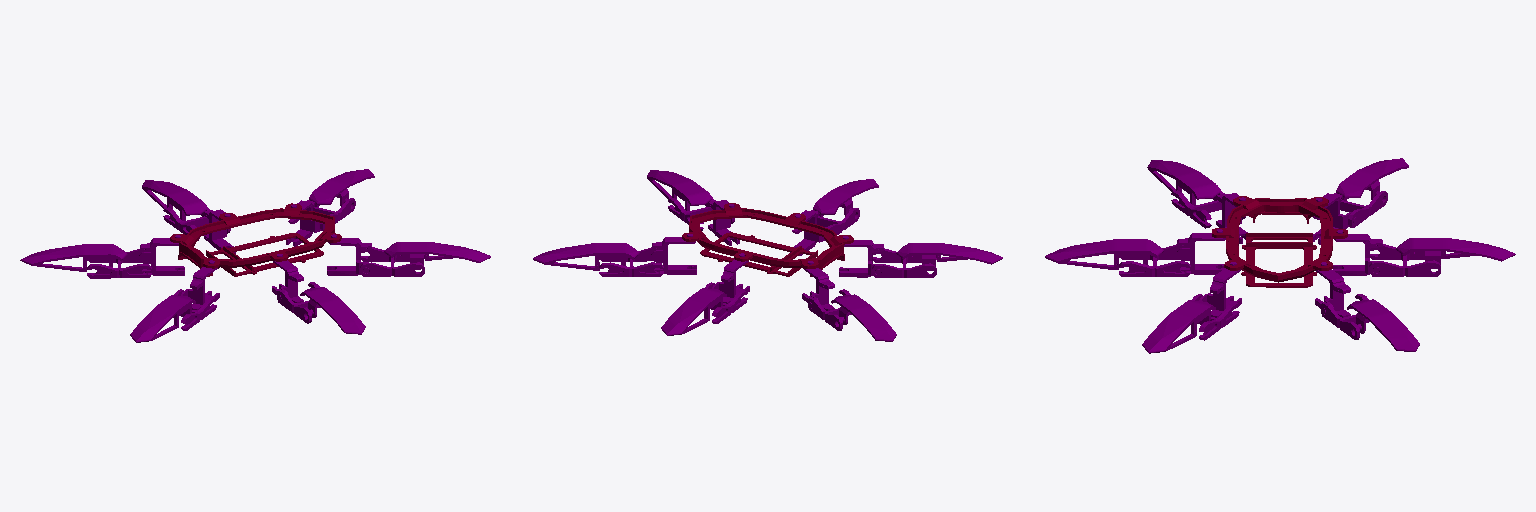
--- Facts derived from the render (not from the file) ---
Views: 3 orthographic renders of the robot side by side, from view 1: azimuth 30°, elevation 25°; view 2: azimuth 150°, elevation 25°; view 3: azimuth 270°, elevation 25°.
Model hexapod with 29 links and 28 joints (18 revolute, 10 fixed), rooted at base_footprint, posed every joint at zero.
Visible links, largest first — view 1: body_top, tibia_3, tibia_4, tibia_6, tibia_5, tibia_2, board_bracket, femur_6, tibia_1, femur_3, coxa_3, coxa_6 (+7 smaller); view 2: body_top, tibia_1, tibia_2, tibia_4, tibia_3, tibia_6, board_bracket, tibia_5, femur_4, femur_1, coxa_1, coxa_4 (+6 smaller); view 3: body_top, tibia_5, tibia_6, tibia_2, board_bracket, tibia_1, tibia_4, femur_2, tibia_3, femur_5, coxa_5, coxa_2 (+8 smaller).
Link boxes in pixels (x1=…): body_top: x1=170, y1=203, x2=341, y2=276; tibia_3: x1=20, y1=244, x2=127, y2=271; tibia_4: x1=130, y1=295, x2=195, y2=342; tibia_6: x1=384, y1=242, x2=490, y2=269; tibia_5: x1=300, y1=287, x2=365, y2=334; tibia_2: x1=142, y1=180, x2=206, y2=220; board_bracket: x1=206, y1=233, x2=323, y2=276; femur_6: x1=360, y1=247, x2=424, y2=276; tibia_1: x1=309, y1=169, x2=374, y2=206; femur_3: x1=87, y1=249, x2=151, y2=278; coxa_3: x1=139, y1=235, x2=184, y2=275; coxa_6: x1=327, y1=234, x2=371, y2=275; body_top: x1=682, y1=203, x2=853, y2=276; tibia_1: x1=533, y1=243, x2=639, y2=270; tibia_2: x1=661, y1=288, x2=726, y2=335; tibia_4: x1=896, y1=243, x2=1002, y2=270; tibia_3: x1=831, y1=294, x2=896, y2=341; tibia_6: x1=647, y1=170, x2=711, y2=210; board_bracket: x1=700, y1=232, x2=817, y2=276; tibia_5: x1=813, y1=179, x2=878, y2=216; femur_4: x1=872, y1=248, x2=936, y2=277; femur_1: x1=599, y1=247, x2=663, y2=276; coxa_1: x1=651, y1=234, x2=696, y2=274; coxa_4: x1=839, y1=236, x2=883, y2=277; body_top: x1=1212, y1=196, x2=1347, y2=282; tibia_5: x1=1045, y1=239, x2=1163, y2=269; tibia_6: x1=1142, y1=300, x2=1215, y2=353; tibia_2: x1=1396, y1=238, x2=1515, y2=268; board_bracket: x1=1241, y1=233, x2=1316, y2=287; tibia_1: x1=1347, y1=299, x2=1419, y2=351; tibia_4: x1=1147, y1=160, x2=1219, y2=205; femur_2: x1=1369, y1=244, x2=1440, y2=276; tibia_3: x1=1336, y1=158, x2=1408, y2=200; femur_5: x1=1119, y1=244, x2=1190, y2=276; coxa_5: x1=1177, y1=229, x2=1225, y2=274; coxa_2: x1=1333, y1=230, x2=1382, y2=275.
Size in the robot's own frame: 4.4 by 4.52 by 0.4426 metres.
20 mesh visuals loaded from 7 distinct referenced files (5 binary STL); not drawn: 2 (reference not matched to a file when rendering).

The robot description file, URDF, robot "hexapod":
<?xml version="1.0" ?>
<!-- =================================================================================== -->
<!-- |    This document was autogenerated by xacro from hexapod.urdf.xacro             | -->
<!-- |    EDITING THIS FILE BY HAND IS NOT RECOMMENDED                                 | -->
<!-- =================================================================================== -->
<robot name="hexapod">
  <!-- Leg Parameters -->
  <material name="coxa">
    <color rgba="0.5 0 0.5 1"/>
  </material>
  <material name="femur">
    <color rgba="0.5 0 0.5 1"/>
  </material>
  <material name="tibia">
    <color rgba="0.5 0 0.5 1"/>
  </material>
  <material name="body_top">
    <color rgba="0.5 0 0.2 0.5"/>
  </material>
  <material name="body_bottom">
    <color rgba="0.5 0 0.2 0.5"/>
  </material>
  <material name="cover_top">
    <color rgba="0 0.2 0 0.5"/>
  </material>
  <material name="board_bracket">
    <color rgba="0.5 0 0.2 0.5"/>
  </material>
  <!-- Leg Parameters -->
  <link name="cover_top">
    <visual>
      <geometry>
        <mesh filename="package://hex_description/models/hexapod/meshes/cover_top.stl" scale="0.01 0.01 0.01"/>
      </geometry>
      <origin xyz="-0.02 -0 0"/>
      <material name="cover_top"/>
    </visual>
    <inertial>
      <mass value="0.1"/>
      <inertia ixx="0.008416666666666668" ixy="0" ixz="0" iyy="0.029666666666666675" iyz="0" izz="0.02141666666666667"/>
    </inertial>
    <collision>
      <geometry>
        <mesh filename="package://hex_description/models/hexapod/meshes/cover_top.stl" scale="0.01 0.01 0.01"/>
        <origin xyz="-0.02 -0 0"/>
      </geometry>
    </collision>
  </link>
  <joint name="body_top_cover_top_joint" type="fixed">
    <parent link="body_top"/>
    <child link="cover_top"/>
    <origin rpy="0.0 0.0 -0.05" xyz="0.0 -0.115 0.31"/>
  </joint>
  <link name="body_top">
    <visual>
      <geometry>
        <mesh filename="package://hex_description/models/hexapod/meshes/body_top.stl" scale="0.01 0.01 0.01"/>
      </geometry>
      <origin xyz="0 -0.42 0"/>
      <material name="body_top"/>
    </visual>
    <inertial>
      <mass value="0.7"/>
      <inertia ixx="0.058916666666666666" ixy="0" ixz="0" iyy="0.20766666666666667" iyz="0" izz="0.14991666666666667"/>
    </inertial>
    <collision>
      <geometry>
        <mesh filename="package://hex_description/models/hexapod/meshes/body_top.stl" scale="0.01 0.01 0.01"/>
        <origin xyz="0 -0.42 0"/>
      </geometry>
    </collision>
  </link>
  <joint name="body_top_body_bottom_joint" type="fixed">
    <parent link="body_bottom"/>
    <child link="body_top"/>
    <origin rpy="0.0 0.0 0.0" xyz="0.0 0.02 0"/>
  </joint>
  <link name="board_bracket">
    <visual>
      <geometry>
        <mesh filename="package://hex_description/models/hexapod/meshes/board_bracket.stl" scale="0.01 0.01 0.01"/>
      </geometry>
      <origin xyz="0 0 0"/>
      <material name="board_bracket"/>
    </visual>
    <inertial>
      <mass value="0.7"/>
      <inertia ixx="0.021209999999999996" ixy="0" ixz="0" iyy="0.09158333333333335" iyz="0" izz="0.07079333333333335"/>
    </inertial>
    <collision>
      <geometry>
        <mesh filename="package://hex_description/models/hexapod/meshes/board_bracket.stl" scale="0.01 0.01 0.01"/>
        <origin xyz="0 0 0"/>
      </geometry>
    </collision>
  </link>
  <joint name="base_bottom_bracket_board" type="fixed">
    <parent link="body_bottom"/>
    <child link="board_bracket"/>
    <origin rpy="0.0 0.0 0.0" xyz="0 -0.03 0"/>
  </joint>
  <link name="body_bottom">
    <visual>
      <geometry>
        <mesh filename="package://hex_description/models/hexapod/meshes/body_bottom.stl" scale="0.01 0.01 0.01"/>
      </geometry>
      <origin xyz="0.0 -0.425 0"/>
      <material name="body_bottom"/>
    </visual>
    <inertial>
      <mass value="0.6"/>
      <inertia ixx="0.050499999999999996" ixy="0" ixz="0" iyy="0.17800000000000002" iyz="0" izz="0.1285"/>
    </inertial>
    <collision>
      <geometry>
        <mesh filename="package://hex_description/models/hexapod/meshes/body_bottom.stl" scale="0.01 0.01 0.01"/>
        <origin xyz="0.0 -0.425 0"/>
      </geometry>
    </collision>
  </link>
  <link name="base_footprint"/>
  <joint name="base_footprint_base_bottom_joint" type="fixed">
    <parent link="base_footprint"/>
    <child link="body_bottom"/>
    <origin rpy="0.0 0.0 0.0" xyz="0.0 0.0 0.0"/>
  </joint>
  <gazebo>
    <plugin filename="libgazebo_ros_control.so" name="gazebo_ros_control">
      <robotNamespace>/hexapod</robotNamespace>
      <parameters>[local-path]/Hexapod/src/hex/hex_control/config/control.yaml</parameters>
    </plugin>
  </gazebo>
  <!-- Pose publisher -->
  <gazebo>
    <plugin filename="libgazebo_ros_p3d.so" name="p3d_base_controller">
      <alwaysOn>true</alwaysOn>
      <!--<updateRate>50.0</updateRate>-->
      <bodyName>cover_top</bodyName>
      <topicName>odom</topicName>
      <gaussianNoise>0.01</gaussianNoise>
      <frameName>world</frameName>
      <xyzOffsets>0 0 0</xyzOffsets>
      <rpyOffsets>0 0 0</rpyOffsets>
    </plugin>
  </gazebo>
  <!-- IMU -->
  <gazebo>
    <plugin filename="libgazebo_ros_imu.so" name="imu_controller">
      <alwaysOn>true</alwaysOn>
      <!-- <updateRate>50.0</updateRate> -->
      <bodyName>cover_top</bodyName>
      <topicName>imu</topicName>
      <gaussianNoise>0.0</gaussianNoise>
      <frameName>world</frameName>
    </plugin>
  </gazebo>
  <!-- <gazebo reference="cover_top">
    <gravity>true</gravity>
    <sensor name="imu_sensor" type="imu">
      <always_on>true</always_on>
      <update_rate>50</update_rate>
      <visualize>false</visualize>
      <topic>__default_topic__</topic>
      <plugin filename="libgazebo_ros_imu_sensor.so" name="imu_plugin">
        <topicName>imu</topicName>
        <bodyName>cover_top</bodyName>
        <updateRateHZ>10.0</updateRateHZ>
        <gaussianNoise>0.0</gaussianNoise>
        <xyzOffset>0 0 0</xyzOffset>
        <rpyOffset>0 0 0</rpyOffset>
        <frameName>cover_top</frameName>
        <initialOrientationAsReference>false</initialOrientationAsReference>
      </plugin>
      <pose>0 0 0 0 0 0</pose>
    </sensor>
  </gazebo> -->
  <gazebo reference="tibia_1">
    <!-- contact sensor -->
    <sensor name="tibia_1_contact_sens" type="contact">
      <update_rate>50.0</update_rate>
      <always_on>1</always_on>
      <contact>
        <collision>tibia_1_collision</collision>
      </contact>
      <plugin filename="libgazebo_ros_bumper.so" name="gazebo_ros_bumper_controller">
        <alwaysOn>true</alwaysOn>
        <updateRate>50.0</updateRate>
        <bumperTopicName>/contact_1</bumperTopicName>
        <frameName>world</frameName>
      </plugin>
    </sensor>
  </gazebo>
  <gazebo reference="tibia_2">
    <!-- contact sensor -->
    <sensor name="tibia_2_contact_sens" type="contact">
      <update_rate>50.0</update_rate>
      <always_on>1</always_on>
      <contact>
        <collision>tibia_2_collision</collision>
      </contact>
      <plugin filename="libgazebo_ros_bumper.so" name="gazebo_ros_bumper_controller">
        <alwaysOn>true</alwaysOn>
        <updateRate>50.0</updateRate>
        <bumperTopicName>/contact_2</bumperTopicName>
        <frameName>world</frameName>
      </plugin>
    </sensor>
  </gazebo>
  <gazebo reference="tibia_3">
    <!-- contact sensor -->
    <sensor name="tibia_3_contact_sens" type="contact">
      <update_rate>50.0</update_rate>
      <always_on>1</always_on>
      <contact>
        <collision>tibia_3_collision</collision>
      </contact>
      <plugin filename="libgazebo_ros_bumper.so" name="gazebo_ros_bumper_controller">
        <alwaysOn>true</alwaysOn>
        <updateRate>50.0</updateRate>
        <bumperTopicName>/contact_3</bumperTopicName>
        <frameName>world</frameName>
      </plugin>
    </sensor>
  </gazebo>
  <gazebo reference="tibia_4">
    <!-- contact sensor -->
    <sensor name="tibia_4_contact_sens" type="contact">
      <update_rate>50.0</update_rate>
      <always_on>1</always_on>
      <contact>
        <collision>tibia_4_collision</collision>
      </contact>
      <plugin filename="libgazebo_ros_bumper.so" name="gazebo_ros_bumper_controller">
        <alwaysOn>true</alwaysOn>
        <updateRate>50.0</updateRate>
        <bumperTopicName>/contact_4</bumperTopicName>
        <frameName>world</frameName>
      </plugin>
    </sensor>
  </gazebo>
  <gazebo reference="tibia_5">
    <!-- contact sensor -->
    <sensor name="tibia_5_contact_sens" type="contact">
      <update_rate>50.0</update_rate>
      <always_on>1</always_on>
      <contact>
        <collision>tibia_5_collision</collision>
      </contact>
      <plugin filename="libgazebo_ros_bumper.so" name="gazebo_ros_bumper_controller">
        <alwaysOn>true</alwaysOn>
        <updateRate>50.0</updateRate>
        <bumperTopicName>/contact_5</bumperTopicName>
        <frameName>world</frameName>
      </plugin>
    </sensor>
  </gazebo>
  <gazebo reference="tibia_6">
    <!-- contact sensor -->
    <sensor name="tibia_6_contact_sens" type="contact">
      <update_rate>50.0</update_rate>
      <always_on>1</always_on>
      <contact>
        <collision>tibia_6_collision</collision>
      </contact>
      <plugin filename="libgazebo_ros_bumper.so" name="gazebo_ros_bumper_controller">
        <alwaysOn>true</alwaysOn>
        <updateRate>50.0</updateRate>
        <bumperTopicName>/contact_6</bumperTopicName>
        <frameName>world</frameName>
      </plugin>
    </sensor>
  </gazebo>
  <link name="coxa_1">
    <visual>
      <geometry>
        <mesh filename="package://hex_description/models/hexapod/meshes/coxa.stl" scale="0.01 0.01 0.01"/>
      </geometry>
      <origin rpy="0 0 3.14" xyz="0 0 0"/>
      <material name="coxa"/>
    </visual>
    <inertial>
      <mass value="0.6"/>
      <inertia ixx="0.07725" ixy="0" ixz="0" iyy="0.07725" iyz="0" izz="0.075"/>
      <origin rpy="0 0 3.14" xyz="0 0 0"/>
    </inertial>
    <collision>
      <geometry>
        <mesh filename="package://hex_description/models/hexapod/meshes/coxa.stl" scale="0.01 0.01 0.01"/>
      </geometry>
      <origin rpy="0 0 3.14" xyz="0 0 0"/>
    </collision>
  </link>
  <link name="femur_1">
    <visual>
      <geometry>
        <mesh filename="package://hex_description/models/hexapod/meshes/femur.stl" scale="0.01 0.01 0.01"/>
      </geometry>
      <origin rpy="1.57 1.57 3.14" xyz="0 0 0"/>
      <material name="femur"/>
    </visual>
    <inertial>
      <mass value="0.6"/>
      <inertia ixx="0.084" ixy="0" ixz="0" iyy="0.084" iyz="0" izz="0.075"/>
      <origin rpy="1.57 1.57 1.57" xyz="0 0 0"/>
    </inertial>
    <collision>
      <geometry>
        <mesh filename="package://hex_description/models/hexapod/meshes/femur.stl" scale="0.01 0.01 0.01"/>
      </geometry>
      <origin rpy="1.57 1.57 3.14" xyz="0 0 0"/>
    </collision>
  </link>
  <link name="tibia_1">
    <visual>
      <geometry>
        <mesh filename="package://hex_description/models/hexapod/meshes/tibia.stl" scale="0.01 0.01 0.01"/>
      </geometry>
      <origin rpy="0 1.57 1.57" xyz="0 0 0"/>
      <material name="tibia"/>
    </visual>
    <inertial>
      <origin rpy="0 1.57 0" xyz="0 0 0"/>
      <mass value="0.6"/>
      <inertia ixx="0.15924999999999997" ixy="0" ixz="0" iyy="0.15924999999999997" iyz="0" izz="0.027"/>
    </inertial>
    <collision>
      <geometry>
        <mesh filename="package://hex_description/models/hexapod/meshes/tibia.stl" scale="0.01 0.01 0.01"/>
      </geometry>
      <origin rpy="0 1.57 1.57" xyz="0 0 0"/>
    </collision>
  </link>
  <link name="end_point_1"/>
  <joint name="base_coxa_joint_1" type="revolute">
    <parent link="body_bottom"/>
    <child link="coxa_1"/>
    <origin rpy="0 0 -1.0472" xyz="0.7 0.435 0.05"/>
    <limit effort="50.0" lower="-0.707" upper="0.707" velocity="1.0"/>
    <axis xyz="0 0 1"/>
    <dynamics damping="60.0" friction="4.0"/>
  </joint>
  <joint name="coxa_femur_joint_1" type="revolute">
    <parent link="coxa_1"/>
    <child link="femur_1"/>
    <origin rpy="-1.57 3.14 -1.57" xyz="-0.09 0.345 -0.04"/>
    <limit effort="50.0" lower="-0.707" upper="0.707" velocity="1.0"/>
    <axis xyz="0 0 1"/>
    <dynamics damping="60.0" friction="4.0"/>
  </joint>
  <joint name="femur_tibia_joint_1" type="revolute">
    <parent link="femur_1"/>
    <child link="tibia_1"/>
    <origin rpy="0 0.0 0.0" xyz="0.555 0.035 0.0"/>
    <limit effort="50.0" lower="-2.3" upper="0" velocity="1.0"/>
    <axis xyz="0 0 1"/>
    <dynamics damping="0.7" friction="0.1"/>
  </joint>
  <joint name="end_point_joint_1" type="fixed">
    <parent link="tibia_1"/>
    <child link="end_point_1"/>
    <origin rpy="0 0.0 0.0" xyz="0.755 0 0.0"/>
  </joint>
  <transmission name="tran1_1">
    <type>transmission_interface/SimpleTransmission</type>
    <joint name="base_coxa_joint_1">
      <hardwareInterface>hardware_interface/EffortJointInterface</hardwareInterface>
    </joint>
    <actuator name="motor1">
      <hardwareInterface>hardware_interface/EffortJointInterface</hardwareInterface>
      <mechanicalReduction>1</mechanicalReduction>
    </actuator>
  </transmission>
  <transmission name="tran2_1">
    <type>transmission_interface/SimpleTransmission</type>
    <joint name="coxa_femur_joint_1">
      <hardwareInterface>hardware_interface/EffortJointInterface</hardwareInterface>
    </joint>
    <actuator name="motor2">
      <hardwareInterface>hardware_interface/EffortJointInterface</hardwareInterface>
      <mechanicalReduction>1</mechanicalReduction>
    </actuator>
  </transmission>
  <transmission name="tran3_1">
    <type>transmission_interface/SimpleTransmission</type>
    <joint name="femur_tibia_joint_1">
      <hardwareInterface>hardware_interface/EffortJointInterface</hardwareInterface>
    </joint>
    <actuator name="motor3">
      <hardwareInterface>hardware_interface/EffortJointInterface</hardwareInterface>
      <mechanicalReduction>1</mechanicalReduction>
    </actuator>
  </transmission>
  <gazebo reference="coxa_1">
    <mu1>0.5</mu1>
    <mu2>0.5</mu2>
    <kp>50000.0</kp>
    <kd>1.0</kd>
    <minDepth>0.001</minDepth>
    <maxVel>0.1</maxVel>
    <!-- <fdir1>1 0 0</fdir1> -->
    <material>Gazebo/Green</material>
  </gazebo>
  <gazebo reference="femur_1">
    <mu1>0.5</mu1>
    <mu2>0.5</mu2>
    <kp>50000.0</kp>
    <kd>1.0</kd>
    <minDepth>0.001</minDepth>
    <maxVel>0.1</maxVel>
    <!-- <fdir1>1 0 0</fdir1> -->
    <material>Gazebo/Orange</material>
  </gazebo>
  <gazebo reference="tibia_1">
    <mu1>0.5</mu1>
    <mu2>0.5</mu2>
    <kp>50000.0</kp>
    <kd>1.0</kd>
    <minDepth>0.001</minDepth>
    <maxVel>0.1</maxVel>
    <!-- <fdir1>1 0 0</fdir1> -->
    <material>Gazebo/Blue</material>
  </gazebo>
  <link name="coxa_2">
    <visual>
      <geometry>
        <mesh filename="package://hex_description/models/hexapod/meshes/coxa.stl" scale="0.01 0.01 0.01"/>
      </geometry>
      <origin rpy="0 0 3.14" xyz="0 0 0"/>
      <material name="coxa"/>
    </visual>
    <inertial>
      <mass value="0.6"/>
      <inertia ixx="0.07725" ixy="0" ixz="0" iyy="0.07725" iyz="0" izz="0.075"/>
      <origin rpy="0 0 3.14" xyz="0 0 0"/>
    </inertial>
    <collision>
      <geometry>
        <mesh filename="package://hex_description/models/hexapod/meshes/coxa.stl" scale="0.01 0.01 0.01"/>
      </geometry>
      <origin rpy="0 0 3.14" xyz="0 0 0"/>
    </collision>
  </link>
  <link name="femur_2">
    <visual>
      <geometry>
        <mesh filename="package://hex_description/models/hexapod/meshes/femur.stl" scale="0.01 0.01 0.01"/>
      </geometry>
      <origin rpy="1.57 1.57 3.14" xyz="0 0 0"/>
      <material name="femur"/>
    </visual>
    <inertial>
      <mass value="0.6"/>
      <inertia ixx="0.084" ixy="0" ixz="0" iyy="0.084" iyz="0" izz="0.075"/>
      <origin rpy="1.57 1.57 1.57" xyz="0 0 0"/>
    </inertial>
    <collision>
      <geometry>
        <mesh filename="package://hex_description/models/hexapod/meshes/femur.stl" scale="0.01 0.01 0.01"/>
      </geometry>
      <origin rpy="1.57 1.57 3.14" xyz="0 0 0"/>
    </collision>
  </link>
  <link name="tibia_2">
    <visual>
      <geometry>
        <mesh filename="package://hex_description/models/hexapod/meshes/tibia.stl" scale="0.01 0.01 0.01"/>
      </geometry>
      <origin rpy="0 1.57 1.57" xyz="0 0 0"/>
      <material name="tibia"/>
    </visual>
    <inertial>
      <origin rpy="0 1.57 0" xyz="0 0 0"/>
      <mass value="0.6"/>
      <inertia ixx="0.15924999999999997" ixy="0" ixz="0" iyy="0.15924999999999997" iyz="0" izz="0.027"/>
    </inertial>
    <collision>
      <geometry>
        <mesh filename="package://hex_description/models/hexapod/meshes/tibia.stl" scale="0.01 0.01 0.01"/>
      </geometry>
      <origin rpy="0 1.57 1.57" xyz="0 0 0"/>
    </collision>
  </link>
  <link name="end_point_2"/>
  <joint name="base_coxa_joint_2" type="revolute">
    <parent link="body_bottom"/>
    <child link="coxa_2"/>
    <origin rpy="0 0 0" xyz="-0.03 0.59 0.05"/>
    <limit effort="50.0" lower="-0.707" upper="0.707" velocity="1.0"/>
    <axis xyz="0 0 1"/>
    <dynamics damping="60.0" friction="4.0"/>
  </joint>
  <joint name="coxa_femur_joint_2" type="revolute">
    <parent link="coxa_2"/>
    <child link="femur_2"/>
    <origin rpy="-1.57 3.14 -1.57" xyz="-0.09 0.345 -0.04"/>
    <limit effort="50.0" lower="-0.707" upper="0.707" velocity="1.0"/>
    <axis xyz="0 0 1"/>
    <dynamics damping="60.0" friction="4.0"/>
  </joint>
  <joint name="femur_tibia_joint_2" type="revolute">
    <parent link="femur_2"/>
    <child link="tibia_2"/>
    <origin rpy="0 0.0 0.0" xyz="0.555 0.035 0.0"/>
    <limit effort="50.0" lower="-2.3" upper="0" velocity="1.0"/>
    <axis xyz="0 0 1"/>
    <dynamics damping="0.7" friction="0.1"/>
  </joint>
  <joint name="end_point_joint_2" type="fixed">
    <parent link="tibia_2"/>
    <child link="end_point_2"/>
    <origin rpy="0 0.0 0.0" xyz="0.755 0 0.0"/>
  </joint>
  <transmission name="tran1_2">
    <type>transmission_interface/SimpleTransmission</type>
    <joint name="base_coxa_joint_2">
      <hardwareInterface>hardware_interface/EffortJointInterface</hardwareInterface>
    </joint>
    <actuator name="motor1">
      <hardwareInterface>hardware_interface/EffortJointInterface</hardwareInterface>
      <mechanicalReduction>1</mechanicalReduction>
    </actuator>
  </transmission>
  <transmission name="tran2_2">
    <type>transmission_interface/SimpleTransmission</type>
    <joint name="coxa_femur_joint_2">
      <hardwareInterface>hardware_interface/EffortJointInterface</hardwareInterface>
    </joint>
    <actuator name="motor2">
      <hardwareInterface>hardware_interface/EffortJointInterface</hardwareInterface>
      <mechanicalReduction>1</mechanicalReduction>
    </actuator>
  </transmission>
  <transmission name="tran3_2">
    <type>transmission_interface/SimpleTransmission</type>
    <joint name="femur_tibia_joint_2">
      <hardwareInterface>hardware_interface/EffortJointInterface</hardwareInterface>
    </joint>
    <actuator name="motor3">
      <hardwareInterface>hardware_interface/EffortJointInterface</hardwareInterface>
      <mechanicalReduction>1</mechanicalReduction>
    </actuator>
  </transmission>
  <gazebo reference="coxa_2">
    <mu1>0.5</mu1>
    <mu2>0.5</mu2>
    <kp>50000.0</kp>
    <kd>1.0</kd>
    <minDepth>0.001</minDepth>
    <maxVel>0.1</maxVel>
    <!-- <fdir1>1 0 0</fdir1> -->
    <material>Gazebo/Green</material>
  </gazebo>
  <gazebo reference="femur_2">
    <mu1>0.5</mu1>
    <mu2>0.5</mu2>
    <kp>50000.0</kp>
    <kd>1.0</kd>
    <minDepth>0.001</minDepth>
    <maxVel>0.1</maxVel>
    <!-- <fdir1>1 0 0</fdir1> -->
    <material>Gazebo/Orange</material>
  </gazebo>
  <gazebo reference="tibia_2">
    <mu1>0.5</mu1>
    <mu2>0.5</mu2>
    <kp>50000.0</kp>
    <kd>1.0</kd>
    <minDepth>0.001</minDepth>
    <maxVel>0.1</maxVel>
    <!-- <fdir1>1 0 0</fdir1> -->
    <material>Gazebo/Blue</material>
  </gazebo>
  <link name="coxa_3">
    <visual>
      <geometry>
        <mesh filename="package://hex_description/models/hexapod/meshes/coxa.stl" scale="0.01 0.01 0.01"/>
      </geometry>
      <origin rpy="0 0 3.14" xyz="0 0 0"/>
      <material name="coxa"/>
    </visual>
    <inertial>
      <mass value="0.6"/>
      <inertia ixx="0.07725" ixy="0" ixz="0" iyy="0.07725" iyz="0" izz="0.075"/>
      <origin rpy="0 0 3.14" xyz="0 0 0"/>
    </inertial>
    <collision>
      <geometry>
        <mesh filename="package://hex_description/models/hexapod/meshes/coxa.stl" scale="0.01 0.01 0.01"/>
      </geometry>
      <origin rpy="0 0 3.14" xyz="0 0 0"/>
    </collision>
  </link>
  <link name="femur_3">
    <visual>
      <geometry>
        <mesh filename="package://hex_description/models/hexapod/meshes/femur.stl" scale="0.01 0.01 0.01"/>
      </geometry>
      <origin rpy="1.57 1.57 3.14" xyz="0 0 0"/>
      <material name="femur"/>
    </visual>
    <inertial>
      <mass value="0.6"/>
      <inertia ixx="0.084" ixy="0" ixz="0" iyy="0.084" iyz="0" izz="0.075"/>
      <origin rpy="1.57 1.57 1.57" xyz="0 0 0"/>
    </inertial>
    <collision>
      <geometry>
        <mesh filename="package://hex_description/models/hexapod/meshes/femur.stl" scale="0.01 0.01 0.01"/>
      </geometry>
      <origin rpy="1.57 1.57 3.14" xyz="0 0 0"/>
    </collision>
  </link>
  <link name="tibia_3">
    <visual>
      <geometry>
        <mesh filename="package://hex_description/models/hexapod/meshes/tibia.stl" scale="0.01 0.01 0.01"/>
      </geometry>
      <origin rpy="0 1.57 1.57" xyz="0 0 0"/>
      <material name="tibia"/>
    </visual>
    <inertial>
      <origin rpy="0 1.57 0" xyz="0 0 0"/>
      <mass value="0.6"/>
      <inertia ixx="0.15924999999999997" ixy="0" ixz="0" iyy="0.15924999999999997" iyz="0" izz="0.027"/>
    </inertial>
    <collision>
      <geometry>
        <mesh filename="package://hex_description/models/hexapod/meshes/tibia.stl" scale="0.01 0.01 0.01"/>
      </geometry>
      <origin rpy="0 1.57 1.57" xyz="0 0 0"/>
    </collision>
  </link>
  <link name="end_point_3"/>
  <joint name="base_coxa_joint_3" type="revolute">
    <parent link="body_bottom"/>
    <child link="coxa_3"/>
    <origin rpy="0 0 1.0472" xyz="-0.76 0.39 0.05"/>
    <limit effort="50.0" lower="-0.707" upper="0.707" velocity="1.0"/>
    <axis xyz="0 0 1"/>
    <dynamics damping="60.0" friction="4.0"/>
  </joint>
  <joint name="coxa_femur_joint_3" type="revolute">
    <parent link="coxa_3"/>
    <child link="femur_3"/>
    <origin rpy="-1.57 3.14 -1.57" xyz="-0.09 0.345 -0.04"/>
    <limit effort="50.0" lower="-0.707" upper="0.707" velocity="1.0"/>
    <axis xyz="0 0 1"/>
    <dynamics damping="60.0" friction="4.0"/>
  </joint>
  <joint name="femur_tibia_joint_3" type="revolute">
    <parent link="femur_3"/>
    <child link="tibia_3"/>
    <origin rpy="0 0.0 0.0" xyz="0.555 0.035 0.0"/>
    <limit effort="50.0" lower="-2.3" upper="0" velocity="1.0"/>
    <axis xyz="0 0 1"/>
    <dynamics damping="0.7" friction="0.1"/>
  </joint>
  <joint name="end_point_joint_3" type="fixed">
    <parent link="tibia_3"/>
    <child link="end_point_3"/>
    <origin rpy="0 0.0 0.0" xyz="0.755 0 0.0"/>
  </joint>
  <transmission name="tran1_3">
    <type>transmission_interface/SimpleTransmission</type>
    <joint name="base_coxa_joint_3">
      <hardwareInterface>hardware_interface/EffortJointInterface</hardwareInterface>
    </joint>
    <actuator name="motor1">
      <hardwareInterface>hardware_interface/EffortJointInterface</hardwareInterface>
      <mechanicalReduction>1</mechanicalReduction>
    </actuator>
  </transmission>
  <transmission name="tran2_3">
    <type>transmission_interface/SimpleTransmission</type>
    <joint name="coxa_femur_joint_3">
      <hardwareInterface>hardware_interface/EffortJointInterface</hardwareInterface>
    </joint>
    <actuator name="motor2">
      <hardwareInterface>hardware_interface/EffortJointInterface</hardwareInterface>
      <mechanicalReduction>1</mechanicalReduction>
    </actuator>
  </transmission>
  <transmission name="tran3_3">
    <type>transmission_interface/SimpleTransmission</type>
    <joint name="femur_tibia_joint_3">
      <hardwareInterface>hardware_interface/EffortJointInterface</hardwareInterface>
    </joint>
    <actuator name="motor3">
      <hardwareInterface>hardware_interface/EffortJointInterface</hardwareInterface>
      <mechanicalReduction>1</mechanicalReduction>
    </actuator>
  </transmission>
  <gazebo reference="coxa_3">
    <mu1>0.5</mu1>
    <mu2>0.5</mu2>
    <kp>50000.0</kp>
    <kd>1.0</kd>
    <minDepth>0.001</minDepth>
    <maxVel>0.1</maxVel>
    <!-- <fdir1>1 0 0</fdir1> -->
    <material>Gazebo/Green</material>
  </gazebo>
  <gazebo reference="femur_3">
    <mu1>0.5</mu1>
    <mu2>0.5</mu2>
    <kp>50000.0</kp>
    <kd>1.0</kd>
    <minDepth>0.001</minDepth>
    <maxVel>0.1</maxVel>
    <!-- <fdir1>1 0 0</fdir1> -->
    <material>Gazebo/Orange</material>
  </gazebo>
  <gazebo reference="tibia_3">
    <mu1>0.5</mu1>
    <mu2>0.5</mu2>
    <kp>50000.0</kp>
    <kd>1.0</kd>
    <minDepth>0.001</minDepth>
    <maxVel>0.1</maxVel>
    <!-- <fdir1>1 0 0</fdir1> -->
    <material>Gazebo/Blue</material>
  </gazebo>
  <link name="coxa_4">
    <visual>
      <geometry>
        <mesh filename="package://hex_description/models/hexapod/meshes/coxa.stl" scale="0.01 0.01 0.01"/>
      </geometry>
      <origin rpy="0 0 3.14" xyz="0 0 0"/>
      <material name="coxa"/>
    </visual>
    <inertial>
      <mass value="0.6"/>
      <inertia ixx="0.07725" ixy="0" ixz="0" iyy="0.07725" iyz="0" izz="0.075"/>
      <origin rpy="0 0 3.14" xyz="0 0 0"/>
    </inertial>
    <collision>
      <geometry>
        <mesh filename="package://hex_description/models/hexapod/meshes/coxa.stl" scale="0.01 0.01 0.01"/>
      </geometry>
      <origin rpy="0 0 3.14" xyz="0 0 0"/>
    </collision>
  </link>
  <link name="femur_4">
    <visual>
      <geometry>
        <mesh filename="package://hex_description/models/hexapod/meshes/femur.stl" scale="0.01 0.01 0.01"/>
      </geometry>
      <origin rpy="1.57 1.57 3.14" xyz="0 0 0"/>
      <material name="femur"/>
    </visual>
    <inertial>
      <mass value="0.6"/>
      <inertia ixx="0.084" ixy="0" ixz="0" iyy="0.084" iyz="0" izz="0.075"/>
      <origin rpy="1.57 1.57 1.57" xyz="0 0 0"/>
    </inertial>
    <collision>
      <geometry>
        <mesh filename="package://hex_description/models/hexapod/meshes/femur.stl" scale="0.01 0.01 0.01"/>
      </geometry>
      <origin rpy="1.57 1.57 3.14" xyz="0 0 0"/>
    </collision>
  </link>
  <link name="tibia_4">
    <visual>
      <geometry>
        <mesh filename="package://hex_description/models/hexapod/meshes/tibia.stl" scale="0.01 0.01 0.01"/>
      </geometry>
      <origin rpy="0 1.57 1.57" xyz="0 0 0"/>
      <material name="tibia"/>
    </visual>
    <inertial>
      <origin rpy="0 1.57 0" xyz="0 0 0"/>
      <mass value="0.6"/>
      <inertia ixx="0.15924999999999997" ixy="0" ixz="0" iyy="0.15924999999999997" iyz="0" izz="0.027"/>
    </inertial>
    <collision>
      <geometry>
        <mesh filename="package://hex_description/models/hexapod/meshes/tibia.stl" scale="0.01 0.01 0.01"/>
      </geometry>
      <origin rpy="0 1.57 1.57" xyz="0 0 0"/>
    </collision>
  </link>
  <link name="end_point_4"/>
  <joint name="base_coxa_joint_4" type="revolute">
    <parent link="body_bottom"/>
    <child link="coxa_4"/>
    <origin rpy="0 0 2.09" xyz="-0.77 -0.345 0.05"/>
    <limit effort="50.0" lower="-0.707" upper="0.707" velocity="1.0"/>
    <axis xyz="0 0 1"/>
    <dynamics damping="60.0" friction="4.0"/>
  </joint>
  <joint name="coxa_femur_joint_4" type="revolute">
    <parent link="coxa_4"/>
    <child link="femur_4"/>
    <origin rpy="-1.57 3.14 -1.57" xyz="-0.09 0.345 -0.04"/>
    <limit effort="50.0" lower="-0.707" upper="0.707" velocity="1.0"/>
    <axis xyz="0 0 1"/>
    <dynamics damping="60.0" friction="4.0"/>
  </joint>
  <joint name="femur_tibia_joint_4" type="revolute">
    <parent link="femur_4"/>
    <child link="tibia_4"/>
    <origin rpy="0 0.0 0.0" xyz="0.555 0.035 0.0"/>
    <limit effort="50.0" lower="-2.3" upper="0" velocity="1.0"/>
    <axis xyz="0 0 1"/>
    <dynamics damping="0.7" friction="0.1"/>
  </joint>
  <joint name="end_point_joint_4" type="fixed">
    <parent link="tibia_4"/>
    <child link="end_point_4"/>
    <origin rpy="0 0.0 0.0" xyz="0.755 0 0.0"/>
  </joint>
  <transmission name="tran1_4">
    <type>transmission_interface/SimpleTransmission</type>
    <joint name="base_coxa_joint_4">
      <hardwareInterface>hardware_interface/EffortJointInterface</hardwareInterface>
    </joint>
    <actuator name="motor1">
      <hardwareInterface>hardware_interface/EffortJointInterface</hardwareInterface>
      <mechanicalReduction>1</mechanicalReduction>
    </actuator>
  </transmission>
  <transmission name="tran2_4">
    <type>transmission_interface/SimpleTransmission</type>
    <joint name="coxa_femur_joint_4">
      <hardwareInterface>hardware_interface/EffortJointInterface</hardwareInterface>
    </joint>
    <actuator name="motor2">
      <hardwareInterface>hardware_interface/EffortJointInterface</hardwareInterface>
      <mechanicalReduction>1</mechanicalReduction>
    </actuator>
  </transmission>
  <transmission name="tran3_4">
    <type>transmission_interface/SimpleTransmission</type>
    <joint name="femur_tibia_joint_4">
      <hardwareInterface>hardware_interface/EffortJointInterface</hardwareInterface>
    </joint>
    <actuator name="motor3">
      <hardwareInterface>hardware_interface/EffortJointInterface</hardwareInterface>
      <mechanicalReduction>1</mechanicalReduction>
    </actuator>
  </transmission>
  <gazebo reference="coxa_4">
    <mu1>0.5</mu1>
    <mu2>0.5</mu2>
    <kp>50000.0</kp>
    <kd>1.0</kd>
    <minDepth>0.001</minDepth>
    <maxVel>0.1</maxVel>
    <!-- <fdir1>1 0 0</fdir1> -->
    <material>Gazebo/Green</material>
  </gazebo>
  <gazebo reference="femur_4">
    <mu1>0.5</mu1>
    <mu2>0.5</mu2>
    <kp>50000.0</kp>
    <kd>1.0</kd>
    <minDepth>0.001</minDepth>
    <maxVel>0.1</maxVel>
    <!-- <fdir1>1 0 0</fdir1> -->
    <material>Gazebo/Orange</material>
  </gazebo>
  <gazebo reference="tibia_4">
    <mu1>0.5</mu1>
    <mu2>0.5</mu2>
    <kp>50000.0</kp>
    <kd>1.0</kd>
    <minDepth>0.001</minDepth>
    <maxVel>0.1</maxVel>
    <!-- <fdir1>1 0 0</fdir1> -->
    <material>Gazebo/Blue</material>
  </gazebo>
  <link name="coxa_5">
    <visual>
      <geometry>
        <mesh filename="package://hex_description/models/hexapod/meshes/coxa.stl" scale="0.01 0.01 0.01"/>
      </geometry>
      <origin rpy="0 0 3.14" xyz="0 0 0"/>
      <material name="coxa"/>
    </visual>
    <inertial>
      <mass value="0.6"/>
      <inertia ixx="0.07725" ixy="0" ixz="0" iyy="0.07725" iyz="0" izz="0.075"/>
      <origin rpy="0 0 3.14" xyz="0 0 0"/>
    </inertial>
    <collision>
      <geometry>
        <mesh filename="package://hex_description/models/hexapod/meshes/coxa.stl" scale="0.01 0.01 0.01"/>
      </geometry>
      <origin rpy="0 0 3.14" xyz="0 0 0"/>
    </collision>
  </link>
  <link name="femur_5">
    <visual>
      <geometry>
        <mesh filename="package://hex_description/models/hexapod/meshes/femur.stl" scale="0.01 0.01 0.01"/>
      </geometry>
      <origin rpy="1.57 1.57 3.14" xyz="0 0 0"/>
      <material name="femur"/>
    </visual>
    <inertial>
      <mass value="0.6"/>
      <inertia ixx="0.084" ixy="0" ixz="0" iyy="0.084" iyz="0" izz="0.075"/>
      <origin rpy="1.57 1.57 1.57" xyz="0 0 0"/>
    </inertial>
    <collision>
      <geometry>
        <mesh filename="package://hex_description/models/hexapod/meshes/femur.stl" scale="0.01 0.01 0.01"/>
      </geometry>
      <origin rpy="1.57 1.57 3.14" xyz="0 0 0"/>
    </collision>
  </link>
  <link name="tibia_5">
    <visual>
      <geometry>
        <mesh filename="package://hex_description/models/hexapod/meshes/tibia.stl" scale="0.01 0.01 0.01"/>
      </geometry>
      <origin rpy="0 1.57 1.57" xyz="0 0 0"/>
      <material name="tibia"/>
    </visual>
    <inertial>
      <origin rpy="0 1.57 0" xyz="0 0 0"/>
      <mass value="0.6"/>
      <inertia ixx="0.15924999999999997" ixy="0" ixz="0" iyy="0.15924999999999997" iyz="0" izz="0.027"/>
    </inertial>
    <collision>
      <geometry>
        <mesh filename="package://hex_description/models/hexapod/meshes/tibia.stl" scale="0.01 0.01 0.01"/>
      </geometry>
      <origin rpy="0 1.57 1.57" xyz="0 0 0"/>
    </collision>
  </link>
  <link name="end_point_5"/>
  <joint name="base_coxa_joint_5" type="revolute">
    <parent link="body_bottom"/>
    <child link="coxa_5"/>
    <origin rpy="0 0 3.14" xyz="-0.054 -0.565 0.05"/>
    <limit effort="50.0" lower="-0.707" upper="0.707" velocity="1.0"/>
    <axis xyz="0 0 1"/>
    <dynamics damping="60.0" friction="4.0"/>
  </joint>
  <joint name="coxa_femur_joint_5" type="revolute">
    <parent link="coxa_5"/>
    <child link="femur_5"/>
    <origin rpy="-1.57 3.14 -1.57" xyz="-0.09 0.345 -0.04"/>
    <limit effort="50.0" lower="-0.707" upper="0.707" velocity="1.0"/>
    <axis xyz="0 0 1"/>
    <dynamics damping="60.0" friction="4.0"/>
  </joint>
  <joint name="femur_tibia_joint_5" type="revolute">
    <parent link="femur_5"/>
    <child link="tibia_5"/>
    <origin rpy="0 0.0 0.0" xyz="0.555 0.035 0.0"/>
    <limit effort="50.0" lower="-2.3" upper="0" velocity="1.0"/>
    <axis xyz="0 0 1"/>
    <dynamics damping="0.7" friction="0.1"/>
  </joint>
  <joint name="end_point_joint_5" type="fixed">
    <parent link="tibia_5"/>
    <child link="end_point_5"/>
    <origin rpy="0 0.0 0.0" xyz="0.755 0 0.0"/>
  </joint>
  <transmission name="tran1_5">
    <type>transmission_interface/SimpleTransmission</type>
    <joint name="base_coxa_joint_5">
      <hardwareInterface>hardware_interface/EffortJointInterface</hardwareInterface>
    </joint>
    <actuator name="motor1">
      <hardwareInterface>hardware_interface/EffortJointInterface</hardwareInterface>
      <mechanicalReduction>1</mechanicalReduction>
    </actuator>
  </transmission>
  <transmission name="tran2_5">
    <type>transmission_interface/SimpleTransmission</type>
    <joint name="coxa_femur_joint_5">
      <hardwareInterface>hardware_interface/EffortJointInterface</hardwareInterface>
    </joint>
    <actuator name="motor2">
      <hardwareInterface>hardware_interface/EffortJointInterface</hardwareInterface>
      <mechanicalReduction>1</mechanicalReduction>
    </actuator>
  </transmission>
  <transmission name="tran3_5">
    <type>transmission_interface/SimpleTransmission</type>
    <joint name="femur_tibia_joint_5">
      <hardwareInterface>hardware_interface/EffortJointInterface</hardwareInterface>
    </joint>
    <actuator name="motor3">
      <hardwareInterface>hardware_interface/EffortJointInterface</hardwareInterface>
      <mechanicalReduction>1</mechanicalReduction>
    </actuator>
  </transmission>
  <gazebo reference="coxa_5">
    <mu1>0.5</mu1>
    <mu2>0.5</mu2>
    <kp>50000.0</kp>
    <kd>1.0</kd>
    <minDepth>0.001</minDepth>
    <maxVel>0.1</maxVel>
    <!-- <fdir1>1 0 0</fdir1> -->
    <material>Gazebo/Green</material>
  </gazebo>
  <gazebo reference="femur_5">
    <mu1>0.5</mu1>
    <mu2>0.5</mu2>
    <kp>50000.0</kp>
    <kd>1.0</kd>
    <minDepth>0.001</minDepth>
    <maxVel>0.1</maxVel>
    <!-- <fdir1>1 0 0</fdir1> -->
    <material>Gazebo/Orange</material>
  </gazebo>
  <gazebo reference="tibia_5">
    <mu1>0.5</mu1>
    <mu2>0.5</mu2>
    <kp>50000.0</kp>
    <kd>1.0</kd>
    <minDepth>0.001</minDepth>
    <maxVel>0.1</maxVel>
    <!-- <fdir1>1 0 0</fdir1> -->
    <material>Gazebo/Blue</material>
  </gazebo>
  <link name="coxa_6">
    <visual>
      <geometry>
        <mesh filename="package://hex_description/models/hexapod/meshes/coxa.stl" scale="0.01 0.01 0.01"/>
      </geometry>
      <origin rpy="0 0 3.14" xyz="0 0 0"/>
      <material name="coxa"/>
    </visual>
    <inertial>
      <mass value="0.6"/>
      <inertia ixx="0.07725" ixy="0" ixz="0" iyy="0.07725" iyz="0" izz="0.075"/>
      <origin rpy="0 0 3.14" xyz="0 0 0"/>
    </inertial>
    <collision>
      <geometry>
        <mesh filename="package://hex_description/models/hexapod/meshes/coxa.stl" scale="0.01 0.01 0.01"/>
      </geometry>
      <origin rpy="0 0 3.14" xyz="0 0 0"/>
    </collision>
  </link>
  <link name="femur_6">
    <visual>
      <geometry>
        <mesh filename="package://hex_description/models/hexapod/meshes/femur.stl" scale="0.01 0.01 0.01"/>
      </geometry>
      <origin rpy="1.57 1.57 3.14" xyz="0 0 0"/>
      <material name="femur"/>
    </visual>
    <inertial>
      <mass value="0.6"/>
      <inertia ixx="0.084" ixy="0" ixz="0" iyy="0.084" iyz="0" izz="0.075"/>
      <origin rpy="1.57 1.57 1.57" xyz="0 0 0"/>
    </inertial>
    <collision>
      <geometry>
        <mesh filename="package://hex_description/models/hexapod/meshes/femur.stl" scale="0.01 0.01 0.01"/>
      </geometry>
      <origin rpy="1.57 1.57 3.14" xyz="0 0 0"/>
    </collision>
  </link>
  <link name="tibia_6">
    <visual>
      <geometry>
        <mesh filename="package://hex_description/models/hexapod/meshes/tibia.stl" scale="0.01 0.01 0.01"/>
      </geometry>
      <origin rpy="0 1.57 1.57" xyz="0 0 0"/>
      <material name="tibia"/>
    </visual>
    <inertial>
      <origin rpy="0 1.57 0" xyz="0 0 0"/>
      <mass value="0.6"/>
      <inertia ixx="0.15924999999999997" ixy="0" ixz="0" iyy="0.15924999999999997" iyz="0" izz="0.027"/>
    </inertial>
    <collision>
      <geometry>
        <mesh filename="package://hex_description/models/hexapod/meshes/tibia.stl" scale="0.01 0.01 0.01"/>
      </geometry>
      <origin rpy="0 1.57 1.57" xyz="0 0 0"/>
    </collision>
  </link>
  <link name="end_point_6"/>
  <joint name="base_coxa_joint_6" type="revolute">
    <parent link="body_bottom"/>
    <child link="coxa_6"/>
    <origin rpy="0 0 4.18" xyz="0.69 -0.435 0.05"/>
    <limit effort="50.0" lower="-0.707" upper="0.707" velocity="1.0"/>
    <axis xyz="0 0 1"/>
    <dynamics damping="60.0" friction="4.0"/>
  </joint>
  <joint name="coxa_femur_joint_6" type="revolute">
    <parent link="coxa_6"/>
    <child link="femur_6"/>
    <origin rpy="-1.57 3.14 -1.57" xyz="-0.09 0.345 -0.04"/>
    <limit effort="50.0" lower="-0.707" upper="0.707" velocity="1.0"/>
    <axis xyz="0 0 1"/>
    <dynamics damping="60.0" friction="4.0"/>
  </joint>
  <joint name="femur_tibia_joint_6" type="revolute">
    <parent link="femur_6"/>
    <child link="tibia_6"/>
    <origin rpy="0 0.0 0.0" xyz="0.555 0.035 0.0"/>
    <limit effort="50.0" lower="-2.3" upper="0" velocity="1.0"/>
    <axis xyz="0 0 1"/>
    <dynamics damping="0.7" friction="0.1"/>
  </joint>
  <joint name="end_point_joint_6" type="fixed">
    <parent link="tibia_6"/>
    <child link="end_point_6"/>
    <origin rpy="0 0.0 0.0" xyz="0.755 0 0.0"/>
  </joint>
  <transmission name="tran1_6">
    <type>transmission_interface/SimpleTransmission</type>
    <joint name="base_coxa_joint_6">
      <hardwareInterface>hardware_interface/EffortJointInterface</hardwareInterface>
    </joint>
    <actuator name="motor1">
      <hardwareInterface>hardware_interface/EffortJointInterface</hardwareInterface>
      <mechanicalReduction>1</mechanicalReduction>
    </actuator>
  </transmission>
  <transmission name="tran2_6">
    <type>transmission_interface/SimpleTransmission</type>
    <joint name="coxa_femur_joint_6">
      <hardwareInterface>hardware_interface/EffortJointInterface</hardwareInterface>
    </joint>
    <actuator name="motor2">
      <hardwareInterface>hardware_interface/EffortJointInterface</hardwareInterface>
      <mechanicalReduction>1</mechanicalReduction>
    </actuator>
  </transmission>
  <transmission name="tran3_6">
    <type>transmission_interface/SimpleTransmission</type>
    <joint name="femur_tibia_joint_6">
      <hardwareInterface>hardware_interface/EffortJointInterface</hardwareInterface>
    </joint>
    <actuator name="motor3">
      <hardwareInterface>hardware_interface/EffortJointInterface</hardwareInterface>
      <mechanicalReduction>1</mechanicalReduction>
    </actuator>
  </transmission>
  <gazebo reference="coxa_6">
    <mu1>0.5</mu1>
    <mu2>0.5</mu2>
    <kp>50000.0</kp>
    <kd>1.0</kd>
    <minDepth>0.001</minDepth>
    <maxVel>0.1</maxVel>
    <!-- <fdir1>1 0 0</fdir1> -->
    <material>Gazebo/Green</material>
  </gazebo>
  <gazebo reference="femur_6">
    <mu1>0.5</mu1>
    <mu2>0.5</mu2>
    <kp>50000.0</kp>
    <kd>1.0</kd>
    <minDepth>0.001</minDepth>
    <maxVel>0.1</maxVel>
    <!-- <fdir1>1 0 0</fdir1> -->
    <material>Gazebo/Orange</material>
  </gazebo>
  <gazebo reference="tibia_6">
    <mu1>0.5</mu1>
    <mu2>0.5</mu2>
    <kp>50000.0</kp>
    <kd>1.0</kd>
    <minDepth>0.001</minDepth>
    <maxVel>0.1</maxVel>
    <!-- <fdir1>1 0 0</fdir1> -->
    <material>Gazebo/Blue</material>
  </gazebo>
  <gazebo reference="body_bottom">
    <kp>10.0</kp>
    <kd>1.0</kd>
    <mu1>0.5</mu1>
    <mu2>0.5</mu2>
    <maxVel>1.0</maxVel>
    <minDepth>0.001</minDepth>
    <material>Gazebo/Red</material>
  </gazebo>
  <gazebo reference="cover_top">
    <kp>1000000.0</kp>
    <kd>100.0</kd>
    <mu1>0.5</mu1>
    <mu2>0.5</mu2>
    <maxVel>1.0</maxVel>
    <minDepth>0.001</minDepth>
    <material>Gazebo/Red</material>
  </gazebo>
  <gazebo reference="body_top">
    <kp>1000000.0</kp>
    <kd>100.0</kd>
    <mu1>0.5</mu1>
    <mu2>0.5</mu2>
    <maxVel>1.0</maxVel>
    <minDepth>0.001</minDepth>
    <material>Gazebo/Red</material>
  </gazebo>
  <gazebo reference="board_bracket">
    <kp>1000000.0</kp>
    <kd>100.0</kd>
    <mu1>0.5</mu1>
    <mu2>0.5</mu2>
    <maxVel>1.0</maxVel>
    <minDepth>0.001</minDepth>
    <material>Gazebo/Green</material>
  </gazebo>
</robot>
